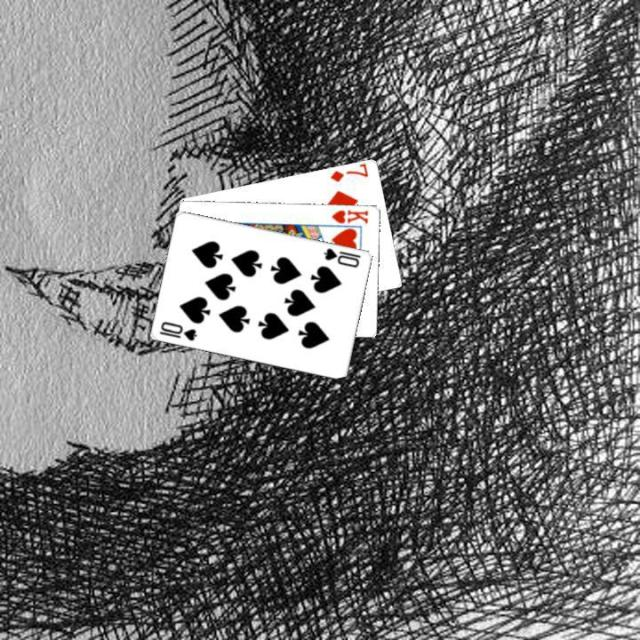10S: (320, 243, 363, 270), (156, 318, 199, 342)
7D: (326, 161, 371, 183)
KH: (328, 205, 370, 225)
